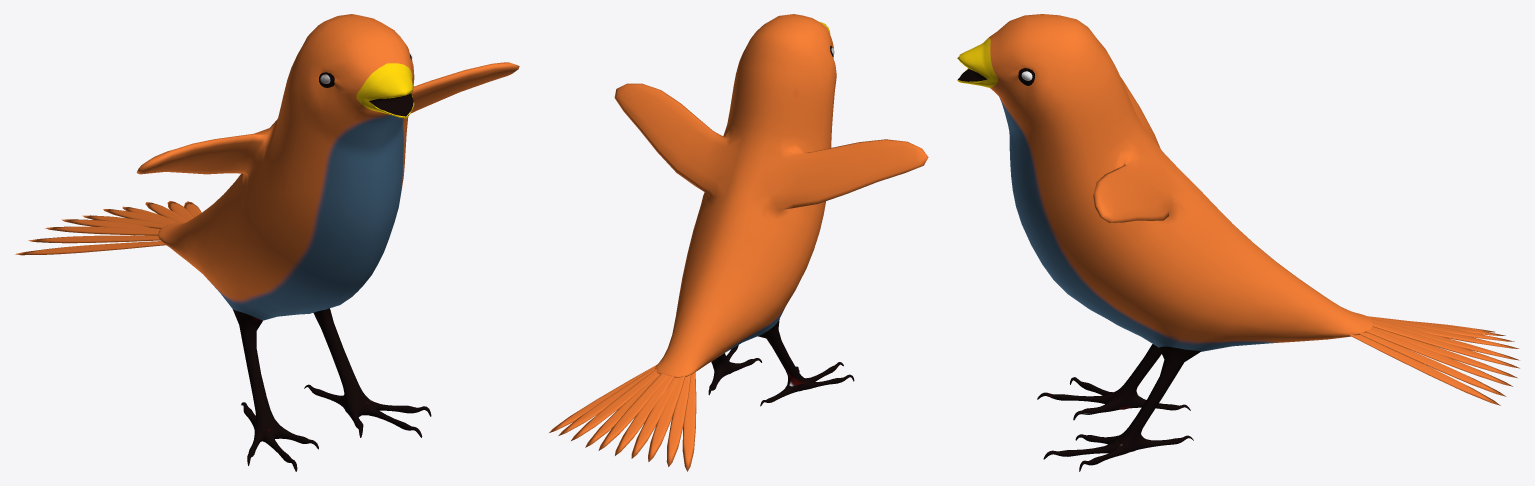
File: pajaro_tel_picapiedras.obj
The picture shows the model from 3 angles, left to right: view 1: azimuth 30°, elevation 25°; view 2: azimuth 150°, elevation 25°; view 3: azimuth 270°, elevation 25°; orthographic projection. The views are drawn at different scales.
Visible parts, largest first — view 1: polySurface24 polySurface12 BirdRender_obj:Mesh; view 2: polySurface24 polySurface12 BirdRender_obj:Mesh; view 3: polySurface24 polySurface12 BirdRender_obj:Mesh.
Part boxes in pixels (x1,y1,x2,y2): polySurface24 polySurface12 BirdRender_obj:Mesh: [15, 14, 519, 471]; polySurface24 polySurface12 BirdRender_obj:Mesh: [549, 14, 928, 471]; polySurface24 polySurface12 BirdRender_obj:Mesh: [957, 14, 1519, 471].
Size of the model in its own units: 11.95 by 12.63 by 15.7.
1 material, 1 textured.
